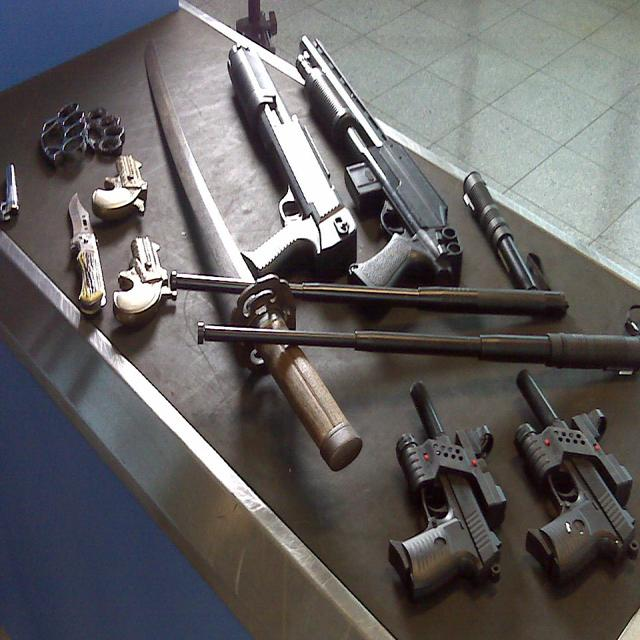Weapon: (126, 0, 367, 492), (289, 21, 480, 301), (206, 1, 356, 278), (491, 347, 640, 604), (382, 361, 514, 613), (104, 227, 184, 326), (64, 184, 104, 340), (86, 141, 148, 217)
